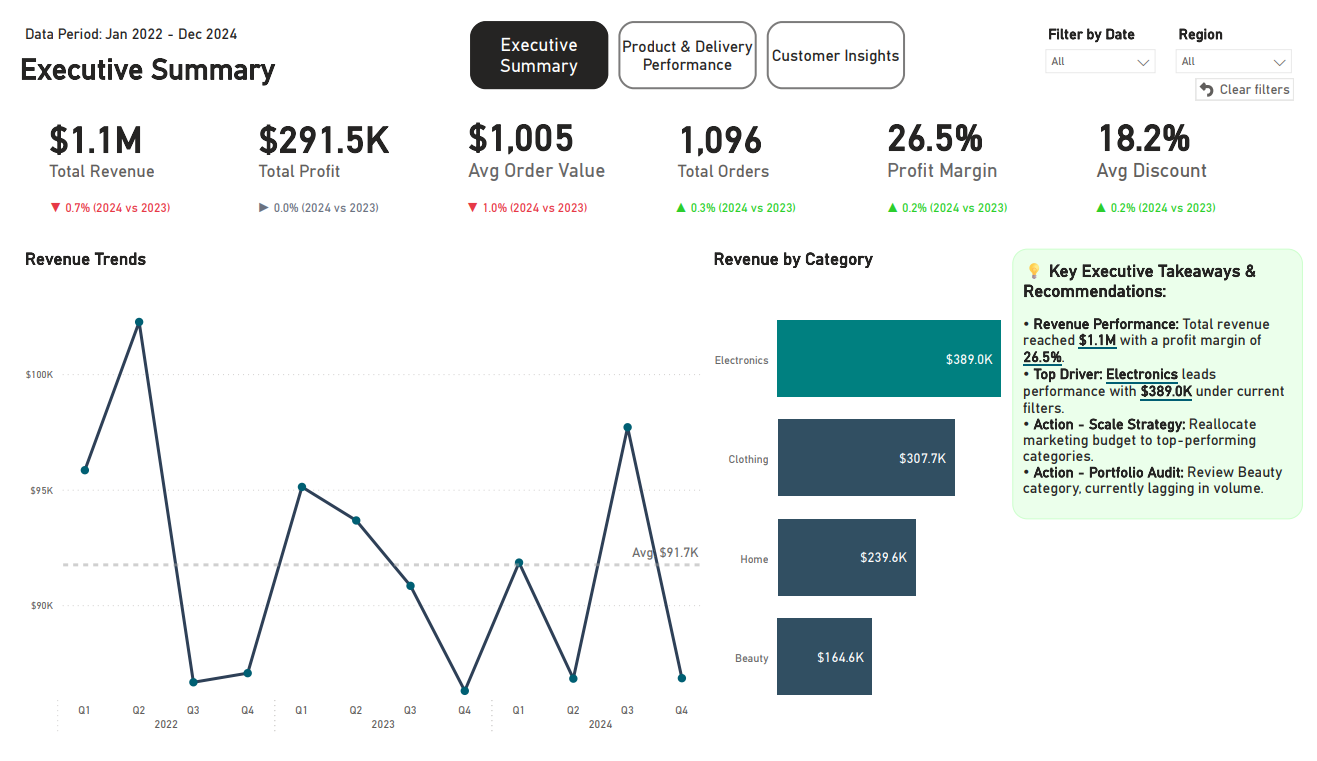

Layout of this report page (visuals, bound fields, positions):
{"tool":"powerbi","page":{"name":"Executive Summary","canvas":[1280,720],"ordinal":0},"visuals":[{"type":"cardVisual","fields":{"Data":["_Measures.Total Revenue","_Measures.Total Gross Profit","ecommerce_sales_analytics_5000.Average_Order_Value","_Measures.Total Orders","ecommerce_sales_analytics_5000.Profit_Margin","ecommerce_sales_analytics_5000.Average_Discount"]},"box":[0,78.6,1280,98.6],"z":0},{"type":"cardVisual","fields":{"Data":["Fact_Sales.Revenue_YoY_Formatted"]},"box":[0,160,204,48],"z":1000},{"type":"lineChart","title":"Revenue Trends","fields":{"Category":["Dim_Calendar.Year","Dim_Calendar.Quarter","Dim_Calendar.MonthName"],"Y":["Fact_Sales.Total Revenue"]},"box":[0,226.7,686.7,493.3],"z":2000},{"type":"barChart","title":"Revenue by Category","fields":{"Category":["Dim_Category.product_category1"],"Y":["Sum(ecommerce_sales_analytics_5000.revenue)"]},"box":[686.7,226.7,303.3,493.3],"z":3000},{"type":"textbox","box":[0,31.4,321.4,37.1],"z":4000},{"type":"textbox","box":[0,0,227.1,29.7],"z":5000},{"type":"actionButton","box":[1172.9,57.1,97.9,21.4],"z":6000},{"type":"textbox","box":[990,226.7,290,270],"z":7000},{"type":"slicer","fields":{"Values":["Dim_Calendar.Year","Dim_Calendar.MonthName"]},"box":[1012.5,0,130,56.9],"z":8000},{"type":"slicer","fields":{"Values":["Dim_Customer.region"]},"box":[1142.5,0,136.9,55.4],"z":9000},{"type":"cardVisual","fields":{"Data":["_Measures.Profit YoY Formatted"]},"box":[207.9,160,218.4,47.9],"z":10000},{"type":"pageNavigator","box":[449.2,0,433.8,67.5],"z":11000},{"type":"cardVisual","fields":{"Data":["_Measures.Orders YoY Formatted"]},"box":[624,160,188.9,47.9],"z":12000},{"type":"cardVisual","fields":{"Data":["_Measures.AOV YoY Formatted"]},"box":[416.2,160,204,48],"z":14000},{"type":"cardVisual","fields":{"Data":["_Measures.Profit Margin YoY Formatted"]},"box":[835,160,188.9,47.9],"z":15000},{"type":"cardVisual","fields":{"Data":["_Measures.Avg Discount YoY Formatted"]},"box":[1043,160,188.9,47.9],"z":16000}]}

Visuals, with their boxes in screenshot pixels (x1, y1, x2, y2), scaled from the page's 1280x720 canvas onto the 1317x761 screenshot:
cardVisual - _Measures.Total Revenue x _Measures.Total Gross Profit: crop(0, 83, 1316, 187)
cardVisual - Fact_Sales.Revenue_YoY_Formatted: crop(0, 169, 210, 220)
"Revenue Trends" lineChart: crop(0, 240, 707, 760)
"Revenue by Category" barChart: crop(707, 240, 1019, 760)
textbox: crop(0, 33, 331, 72)
textbox: crop(0, 0, 234, 31)
actionButton: crop(1207, 60, 1308, 83)
textbox: crop(1019, 240, 1316, 525)
slicer - Dim_Calendar.Year x Dim_Calendar.MonthName: crop(1042, 0, 1176, 60)
slicer - Dim_Customer.region: crop(1176, 0, 1316, 59)
cardVisual - _Measures.Profit YoY Formatted: crop(214, 169, 439, 220)
pageNavigator: crop(462, 0, 909, 71)
cardVisual - _Measures.Orders YoY Formatted: crop(642, 169, 836, 220)
cardVisual - _Measures.AOV YoY Formatted: crop(428, 169, 638, 220)
cardVisual - _Measures.Profit Margin YoY Formatted: crop(859, 169, 1053, 220)
cardVisual - _Measures.Avg Discount YoY Formatted: crop(1073, 169, 1268, 220)
